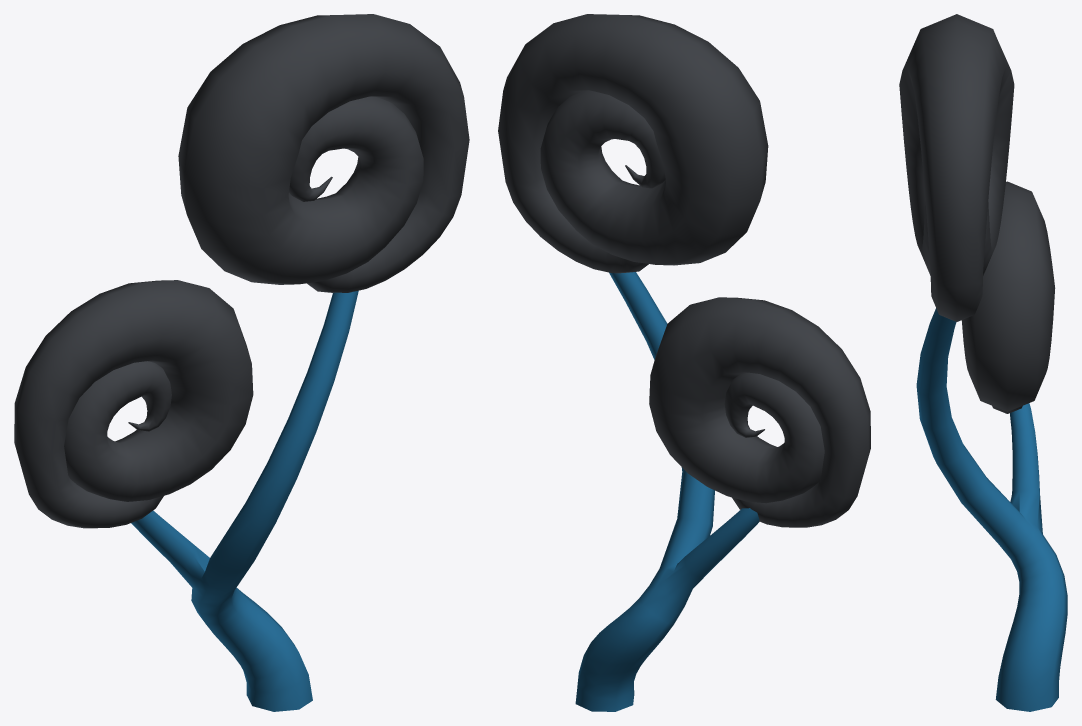
Rendered from cc0-tree-swirl-lod0.glb.
3 renders of one model, left to right at view 1: azimuth 30°, elevation 25°; view 2: azimuth 150°, elevation 25°; view 3: azimuth 270°, elevation 25°, orthographic. The views are drawn at different scales.
Visible parts, largest first — view 1: part_0; view 2: part_0; view 3: part_0.
Boxes of the visible parts, x1=… form: part_0: x1=14, y1=14, x2=469, y2=711; part_0: x1=498, y1=14, x2=870, y2=711; part_0: x1=899, y1=14, x2=1067, y2=711.
Bounding box in the file's own units: 4.61 × 7.35 × 1.68.
1 material, 1 textured.
